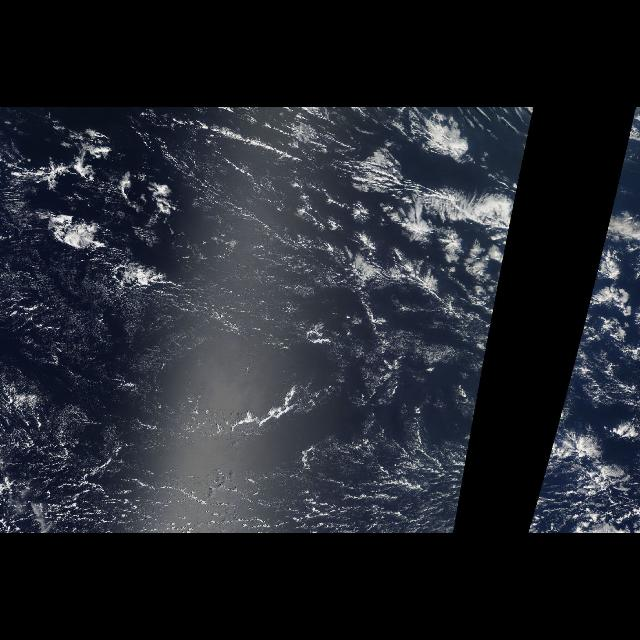Fish: (316, 138, 508, 245)
Flower: (310, 136, 530, 378), (568, 136, 640, 378)
Sugar: (15, 269, 475, 533), (527, 418, 597, 534)
